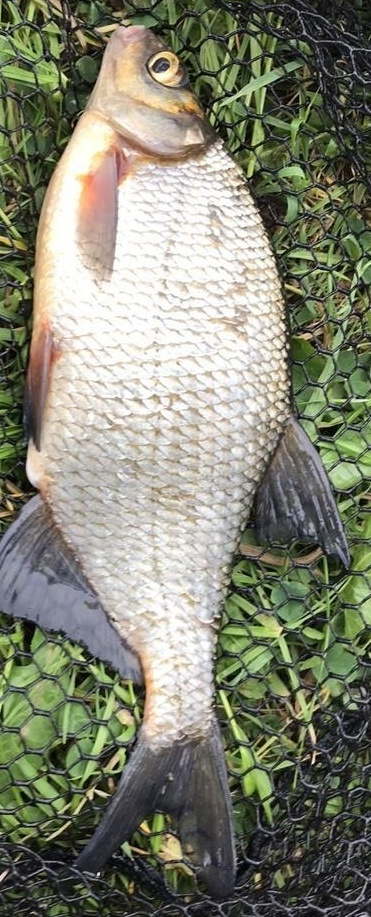Blicca bjoerkna: (20, 20, 351, 897)
